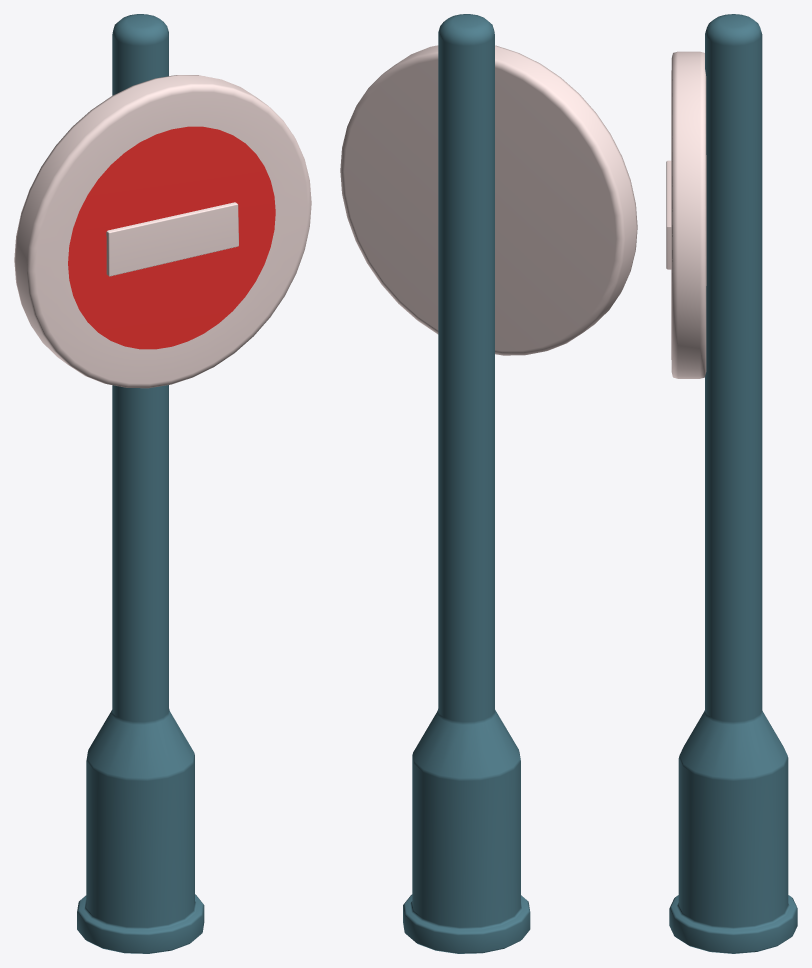
File: Town_5_Sign_1.glb
3 renders of one model, left to right at view 1: azimuth 30°, elevation 25°; view 2: azimuth 150°, elevation 25°; view 3: azimuth 270°, elevation 25°, orthographic.
Visible parts, largest first — view 1: Town_5_Sign_1; view 2: Town_5_Sign_1; view 3: Town_5_Sign_1.
Part boxes in pixels (x1,y1,x2,y2): Town_5_Sign_1: [14, 14, 311, 953]; Town_5_Sign_1: [340, 14, 637, 953]; Town_5_Sign_1: [666, 14, 797, 953].
Size of the model in its own units: 1.16 by 3.54 by 0.4654.
1 material, 1 textured.
